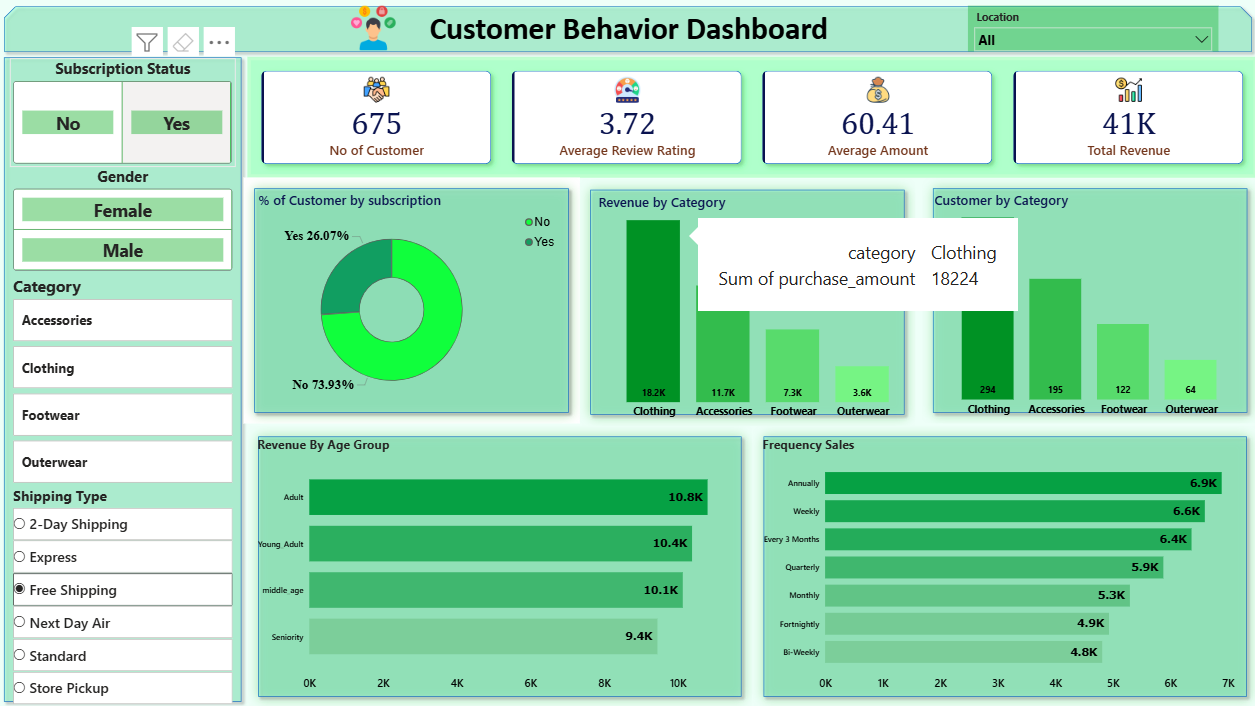

The dashboard page shown, as its layout file describes it:
{"tool":"powerbi","page":{"name":"Page 1","canvas":[1920,1080],"ordinal":0},"visuals":[{"type":"shape","box":[0,2,1920,88],"z":0},{"type":"textbox","box":[622,10,678,70],"z":1000},{"type":"cardVisual","fields":{"Data":["customer.No of Customer","customer.Average Review Rating","customer.Average Amount","customer.Total Revenue"]},"box":[380.9,88.3,1539.2,184.6],"z":2000},{"type":"image","box":[514,0,116,88],"z":3000},{"type":"shape","box":[0,80,380,1000],"z":4000},{"type":"shape","box":[373,272.9,512.4,375],"z":5000},{"type":"shape","box":[1407.7,272.9,512.4,375],"z":6000},{"type":"shape","box":[886,274,512,376],"z":7000},{"type":"shape","box":[380.9,649.9,769.6,430],"z":8000},{"type":"shape","box":[1150.5,649.9,769.6,430],"z":9000},{"type":"donutChart","title":"% of Customer by subscription","fields":{"Category":["customer.subscription_status"],"Y":["Sum(customer.purchase_amount)"]},"box":[392.9,291.4,470,335.7],"z":10000},{"type":"columnChart","title":"Revenue by Category","fields":{"Category":["customer.category"],"Y":["Sum(customer.purchase_amount)"]},"box":[912,292,498,354],"z":11000},{"type":"columnChart","title":"Customer by Category","fields":{"Category":["customer.category"],"Y":["customer.No of Customer"]},"box":[1422,284,484,354],"z":12000},{"type":"advancedSlicerVisual","fields":{"Values":["customer.subscription_status"]},"box":[18,90,344,166],"z":13000},{"type":"advancedSlicerVisual","title":"Gender","fields":{"Values":["customer.gender"]},"box":[18,254,344,166],"z":14000},{"type":"advancedSlicerVisual","title":"Category","fields":{"Values":["customer.category"]},"box":[18,420,344,322],"z":15000},{"type":"listSlicer","title":"Shipping Type","fields":{"Values":["customer.shipping_type"]},"box":[18,742,344,338],"z":16000},{"type":"clusteredBarChart","title":"Revenue By Age Group","fields":{"Y":["Sum(customer.purchase_amount)"],"Category":["customer.age_group"]},"box":[390,665.6,750,397.8],"z":16001},{"type":"clusteredBarChart","title":"Frequency Sales","fields":{"Y":["Sum(customer.purchase_amount)"],"Category":["customer.frequency_of_purchases"]},"box":[1160,665,750,398.3],"z":16002},{"type":"slicer","fields":{"Values":["customer.location"]},"box":[1478,10,382,70],"z":16003}]}

Visuals, with their boxes in screenshot pixels (x1, y1, x2, y2):
shape: <box>0,0,1254,34</box>
textbox: <box>412,0,866,27</box>
cardVisual - customer.No of Customer x customer.Average Review Rating: <box>251,33,1254,156</box>
image: <box>340,0,418,33</box>
shape: <box>0,27,251,696</box>
shape: <box>246,156,588,407</box>
shape: <box>937,156,1254,407</box>
shape: <box>589,157,931,408</box>
shape: <box>251,408,766,696</box>
shape: <box>766,408,1254,696</box>
"% of Customer by subscription" donutChart: <box>259,169,573,393</box>
"Revenue by Category" columnChart: <box>606,169,939,406</box>
"Customer by Category" columnChart: <box>947,164,1254,400</box>
advancedSlicerVisual - customer.subscription_status: <box>9,34,239,145</box>
"Gender" advancedSlicerVisual: <box>9,144,239,255</box>
"Category" advancedSlicerVisual: <box>9,255,239,470</box>
"Shipping Type" listSlicer: <box>9,470,239,696</box>
"Revenue By Age Group" clusteredBarChart: <box>257,419,759,685</box>
"Frequency Sales" clusteredBarChart: <box>772,418,1254,684</box>
slicer - customer.location: <box>984,0,1240,27</box>
